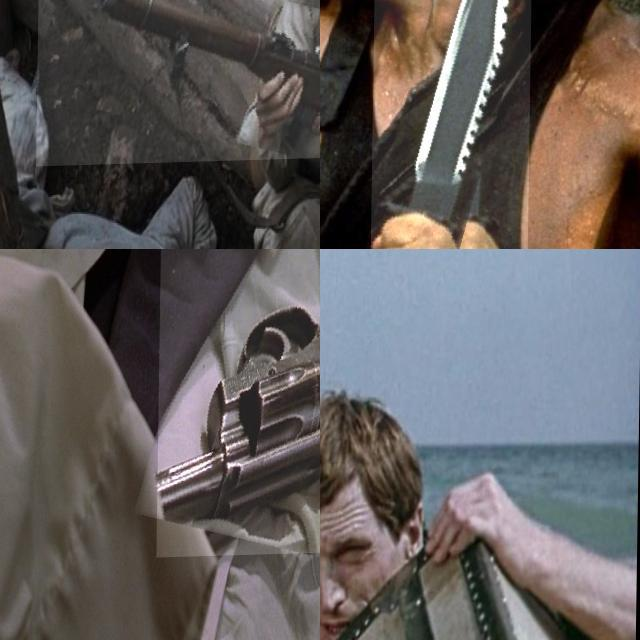-: (371, 0, 533, 249)
gun-knife-thesis - v11 Yolov5 augmented: (157, 249, 320, 558), (37, 0, 320, 166), (320, 484, 395, 640)
